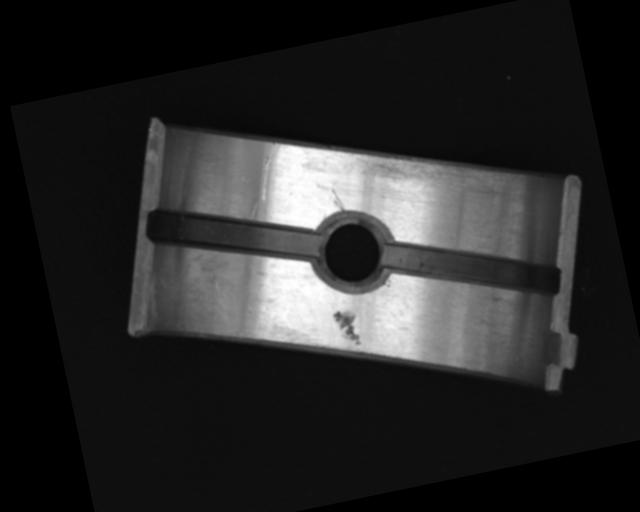bruise: (331, 306, 363, 349)
gap: (383, 211, 562, 326), (144, 178, 322, 288)
hole: (305, 203, 396, 295)
nick: (249, 141, 290, 203), (329, 186, 346, 214)
scratch: (360, 126, 512, 212)
